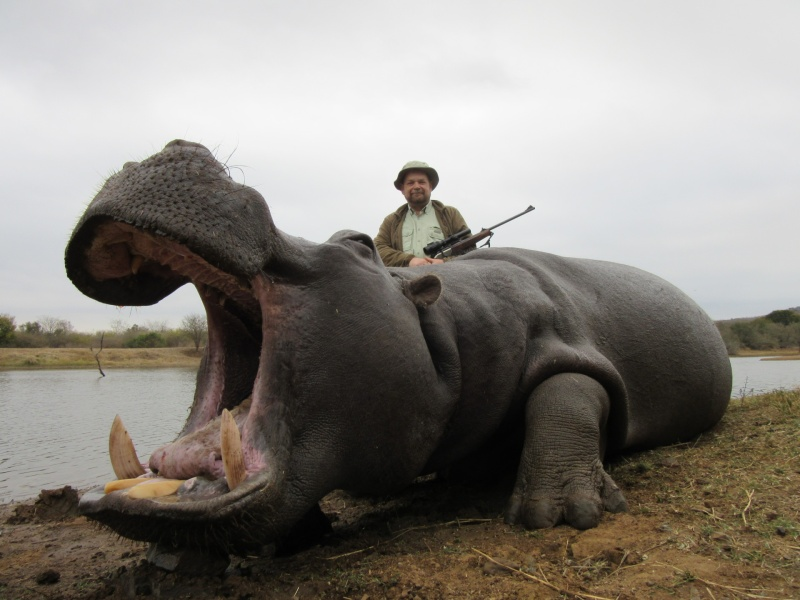hipopotamo: (63, 136, 736, 551)
